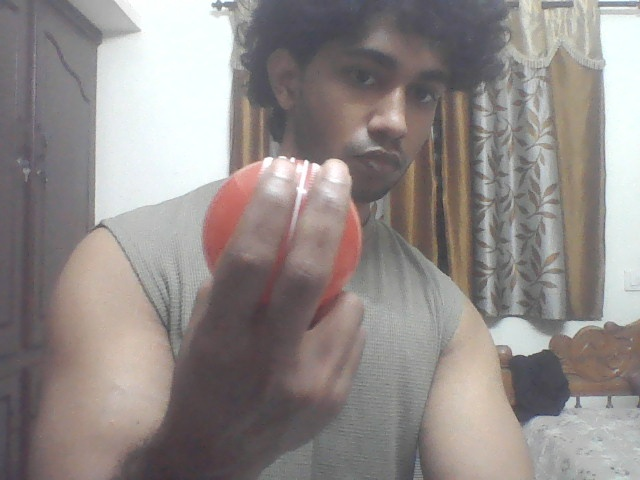cricket_ball: (195, 153, 363, 310)
